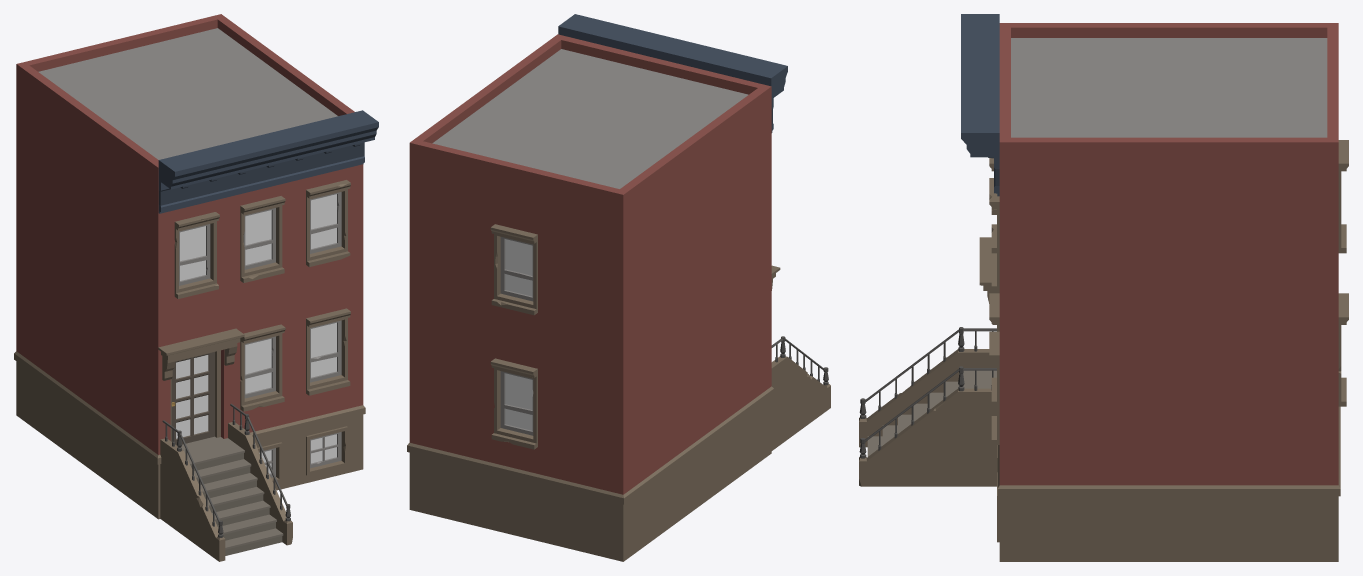
The model's file is SM_Bldg_City_Apartment_T1_2Floor_01.fbx.
The picture shows the model from 3 angles, left to right: view 1: azimuth 30°, elevation 25°; view 2: azimuth 150°, elevation 25°; view 3: azimuth 270°, elevation 25°; orthographic projection. The views are drawn at different scales.
Visible parts, largest first — view 1: SM_Bldg_City_Apartment_T1_2Floor_01, SM_Bldg_City_Apartment_T1_2Floor_01_Glass, SM_Bldg_City_Apartment_T1_2Floor_01_Door; view 2: SM_Bldg_City_Apartment_T1_2Floor_01, SM_Bldg_City_Apartment_T1_2Floor_01_Glass; view 3: SM_Bldg_City_Apartment_T1_2Floor_01.
Boxes of the visible parts, x1=… form: SM_Bldg_City_Apartment_T1_2Floor_01: x1=14, y1=14, x2=378, y2=561; SM_Bldg_City_Apartment_T1_2Floor_01_Glass: x1=180, y1=194, x2=336, y2=473; SM_Bldg_City_Apartment_T1_2Floor_01_Door: x1=171, y1=352, x2=214, y2=445; SM_Bldg_City_Apartment_T1_2Floor_01: x1=407, y1=14, x2=830, y2=561; SM_Bldg_City_Apartment_T1_2Floor_01_Glass: x1=505, y1=239, x2=533, y2=430; SM_Bldg_City_Apartment_T1_2Floor_01: x1=859, y1=14, x2=1348, y2=561.
Bounding box in the file's own units: 507 × 838 × 867.
